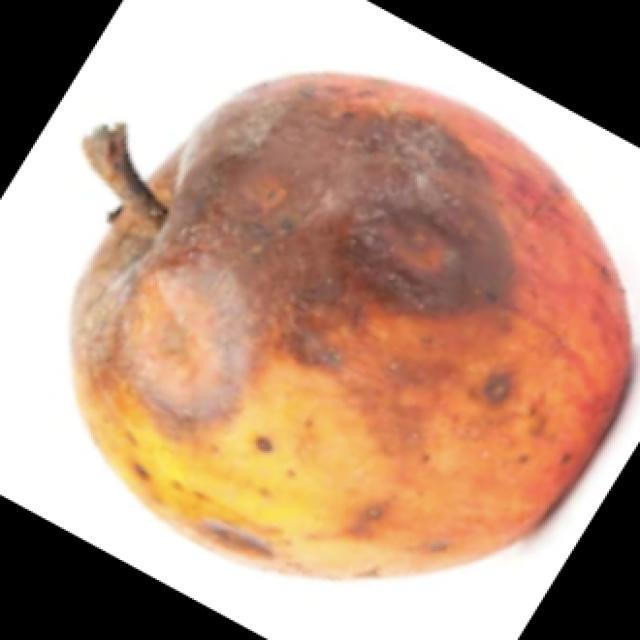Rotten: (95, 98, 640, 567)
